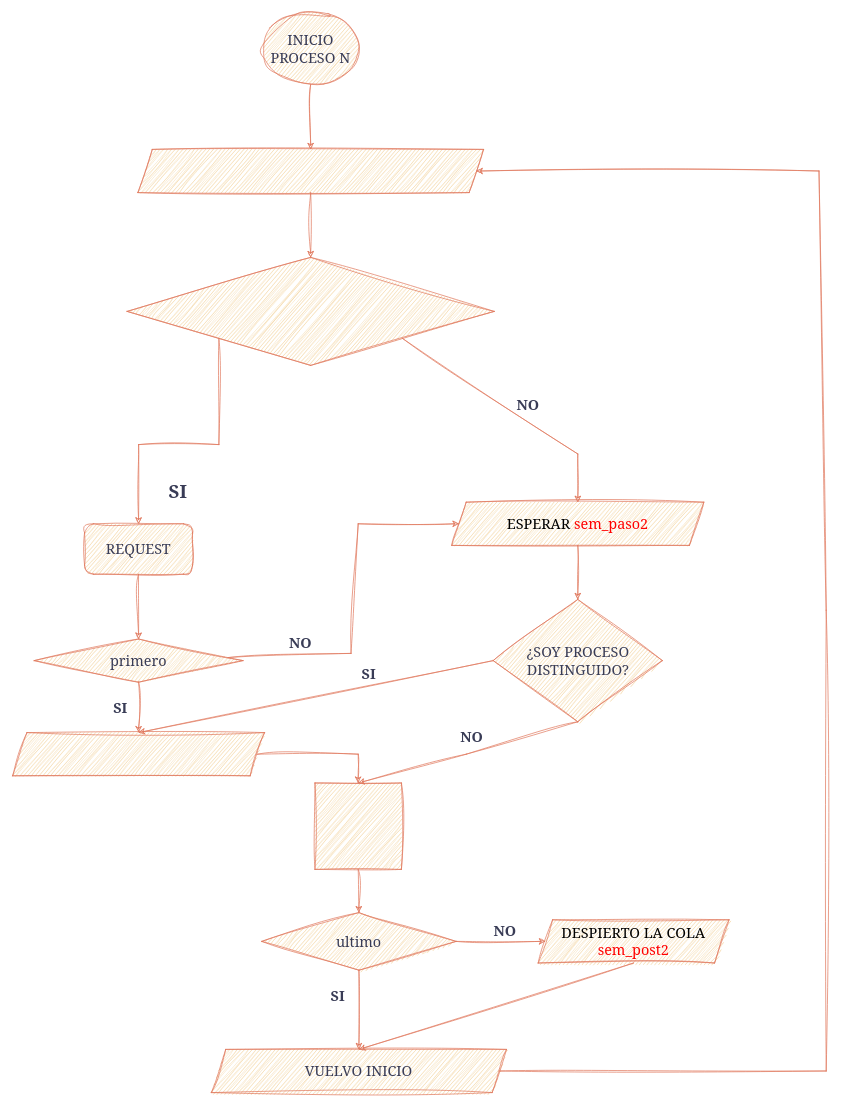
This 845x1105 diagram has some shape labels left out. Each missing label, with the centre of its shape:
ESPERAR sem_paso1: (138,754)
primero || pendiente!= pendiente_anterior: (310,311)
SECCIÓN CRÍTICA: (357,825)
¿ENTRO SECCIÓN CRÍTICA?: (310,171)
